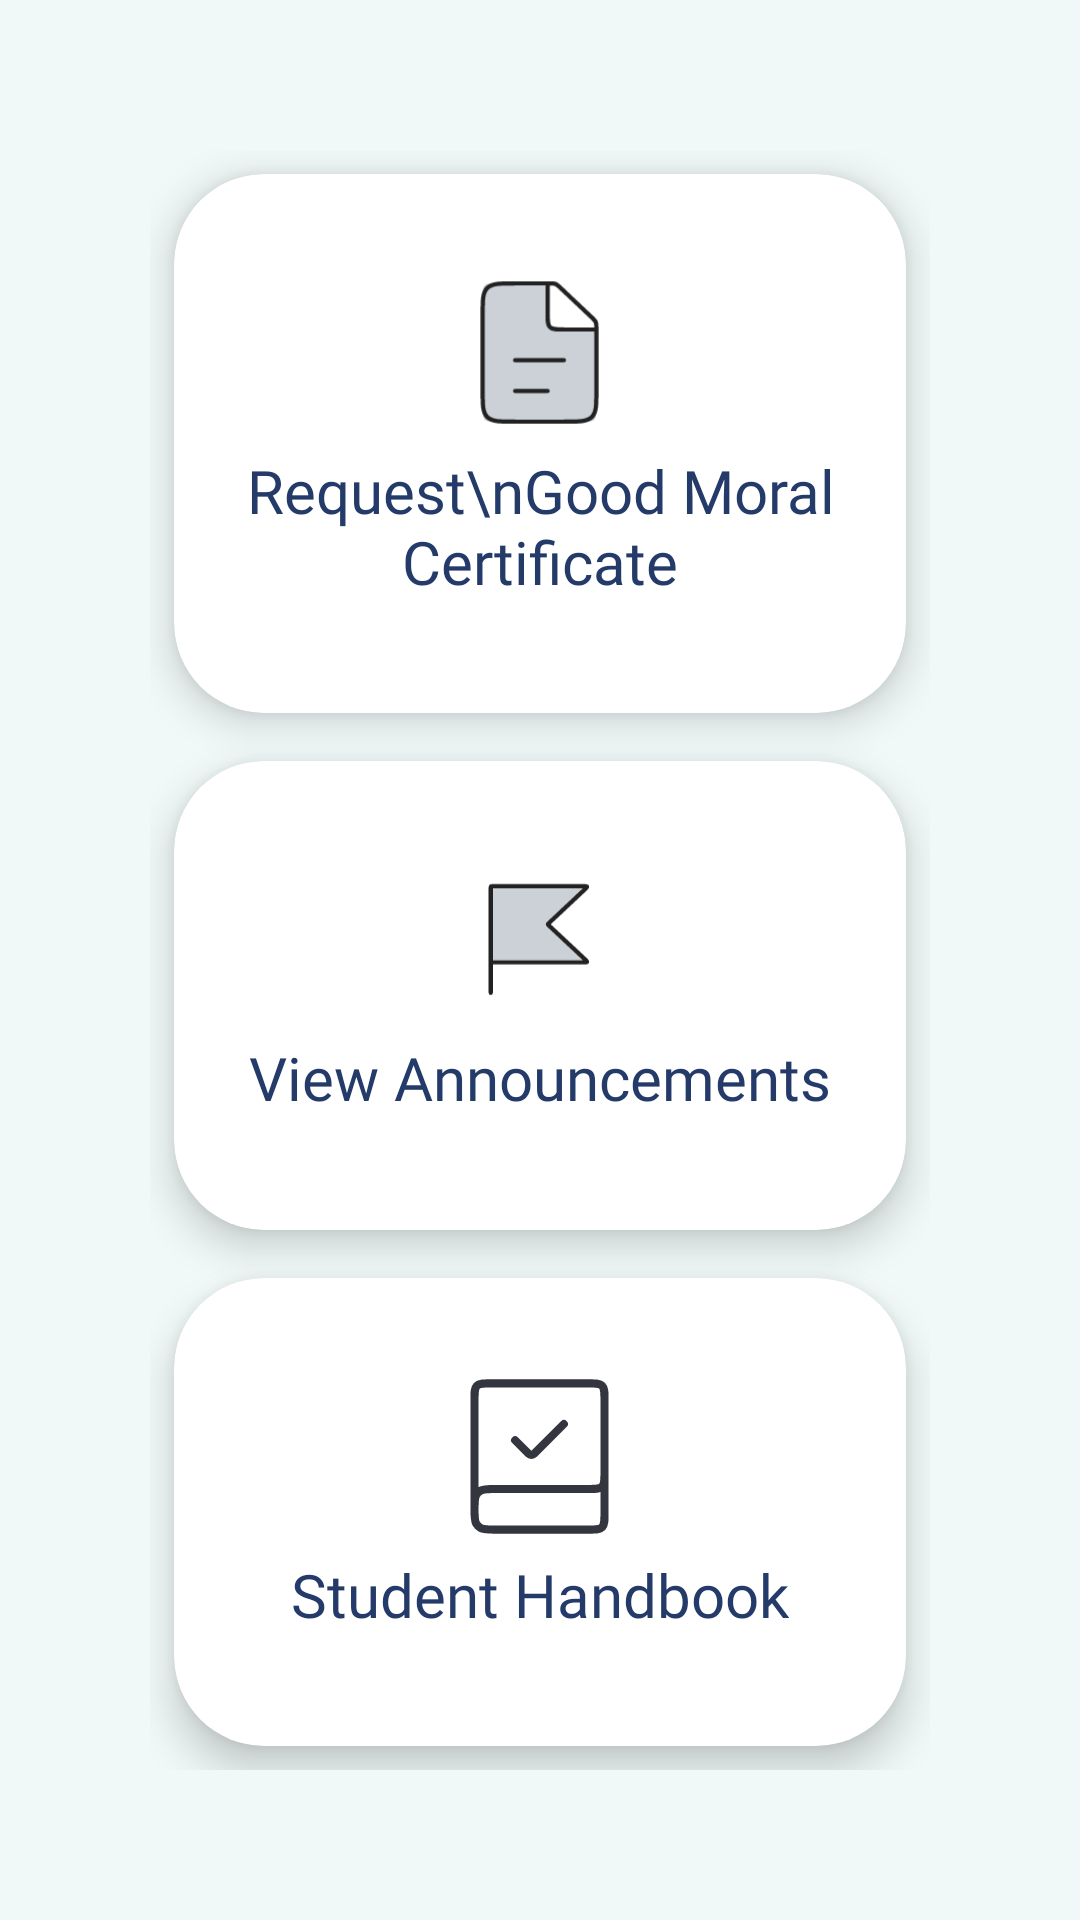

Screen size 1080x1920. Icon name, then its box in pixels as (x1, y1, x2, y2):
reqs gm cert: (480, 281, 599, 424)
